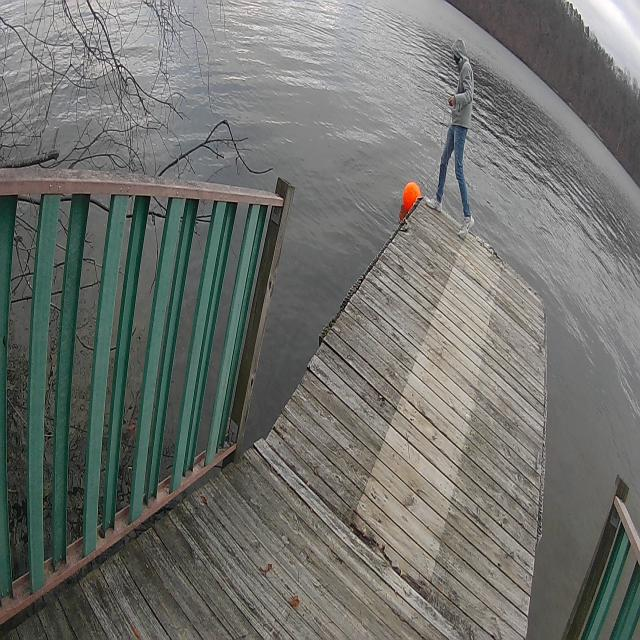Buoy: (400, 177, 424, 215)
